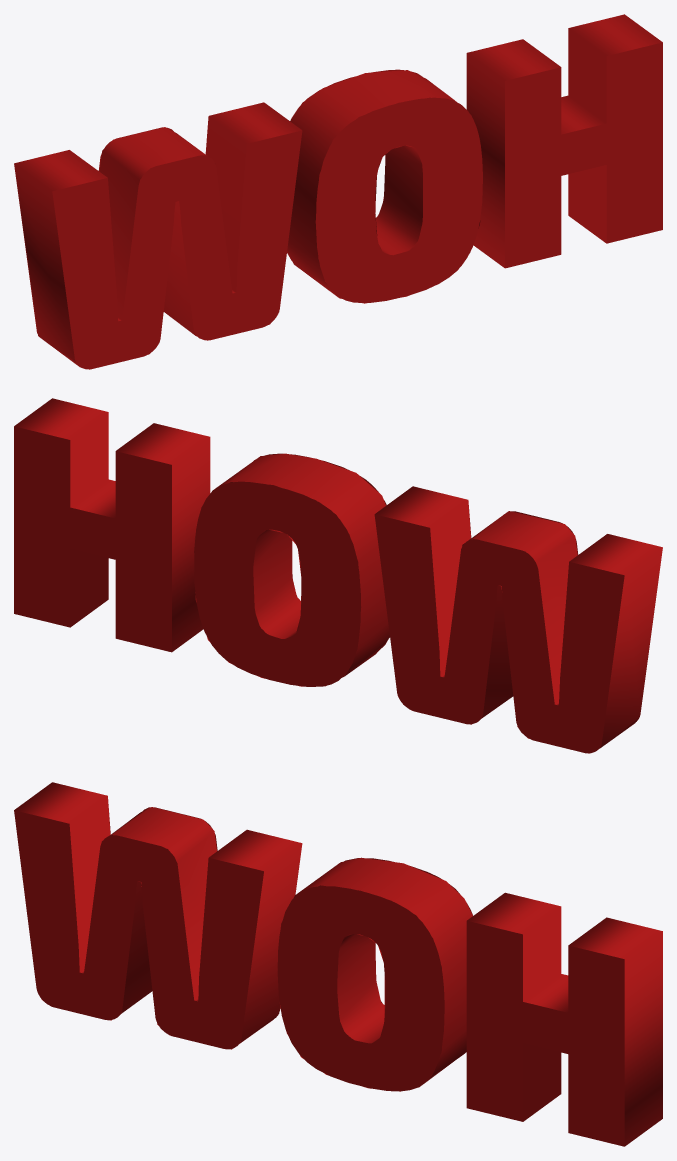
Rendered from how.fbx.
3 views of the same model, one above another, from view 1: azimuth 30°, elevation 25°; view 2: azimuth 150°, elevation 25°; view 3: azimuth 330°, elevation 25° (orthographic).
Parts seen in each view (by area): view 1: Text; view 2: Text; view 3: Text.
Boxes of the visible parts, x1,y1,x2,y2 form: Text: [14, 14, 662, 369]; Text: [14, 398, 662, 753]; Text: [14, 782, 662, 1146].
Size of the model in its own units: 7.36 by 2.26 by 0.8.
